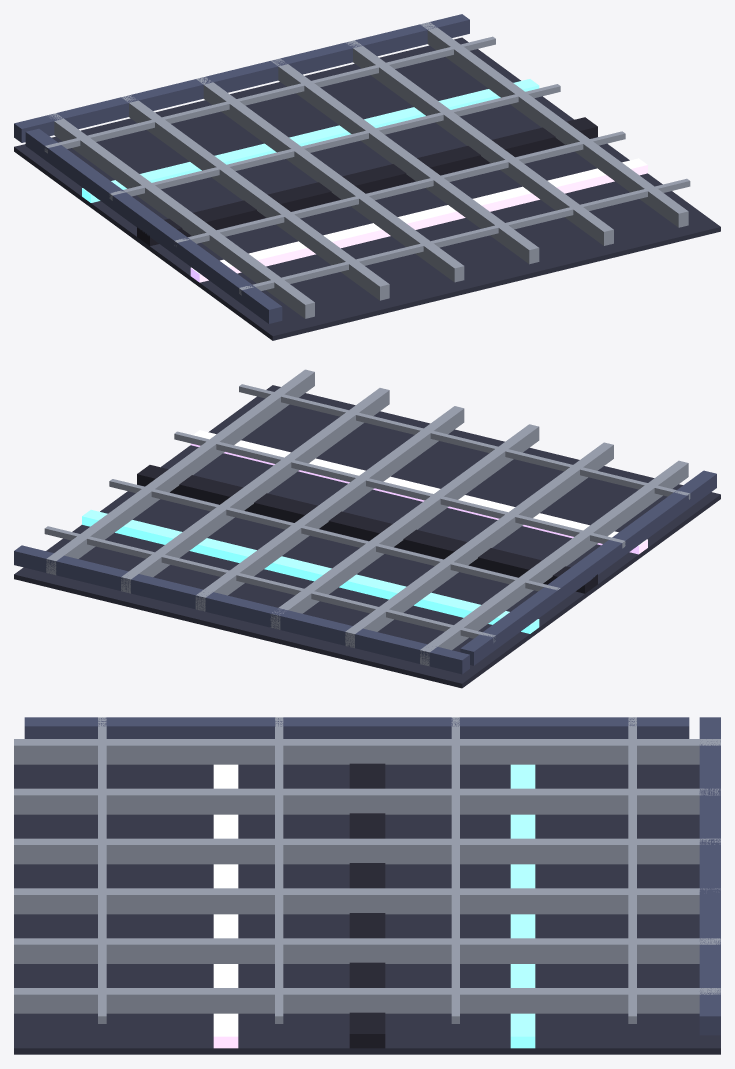
Rendered from boden_gitterrost_a.glb.
The picture shows the model from 3 angles, top to bottom: view 1: azimuth 30°, elevation 25°; view 2: azimuth 150°, elevation 25°; view 3: azimuth 270°, elevation 25°; orthographic projection. The views are drawn at different scales.
Parts seen in each view (by area): view 1: boden_gitterrost_a; view 2: boden_gitterrost_a; view 3: boden_gitterrost_a.
Part boxes in pixels (x1,y1,x2,y2): boden_gitterrost_a: (14,14,720,340); boden_gitterrost_a: (14,369,720,688); boden_gitterrost_a: (14,717,720,1054).
Size of the model in its own units: 1 by 0.06 by 1.
